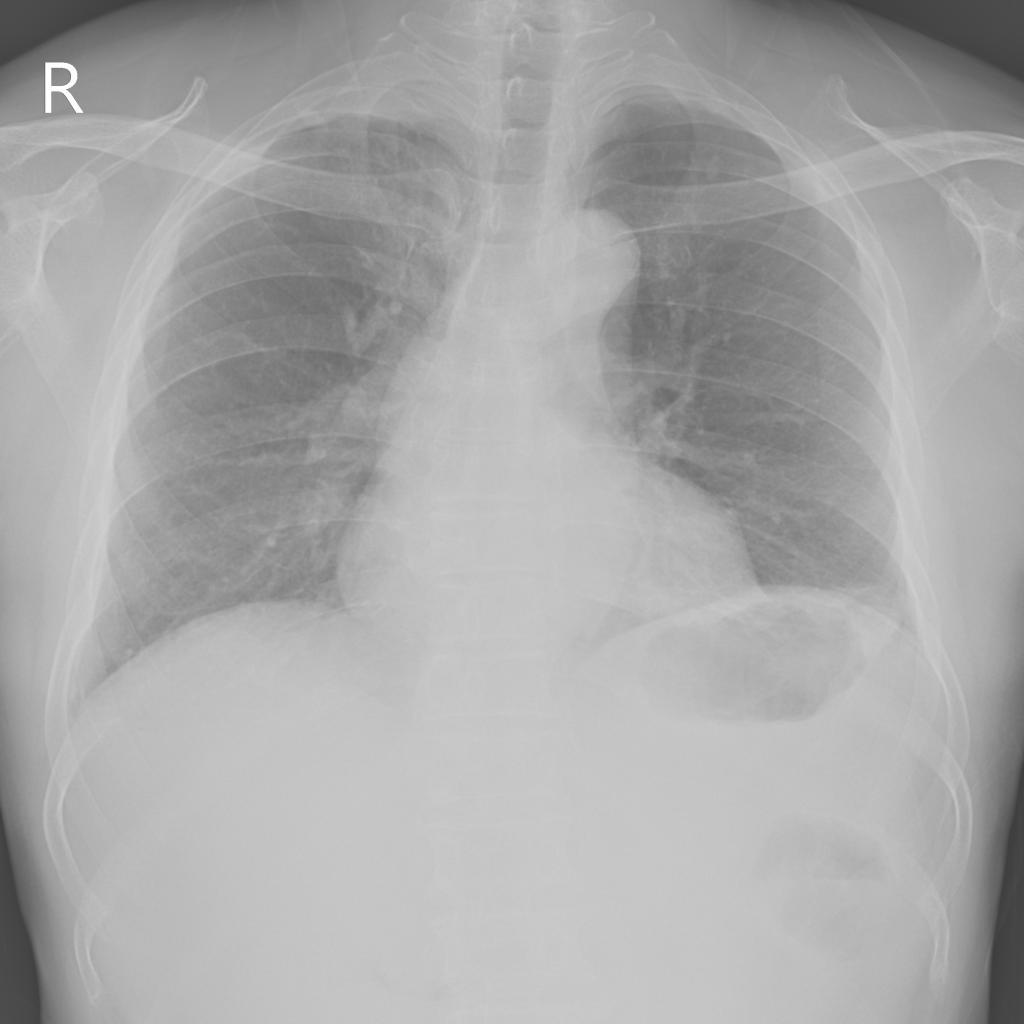Nodule: (706, 158, 718, 183)
